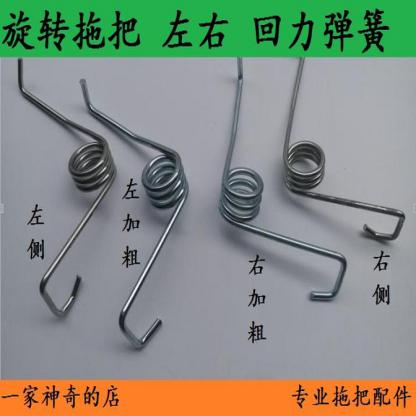FOD: (216, 56, 349, 305), (76, 76, 191, 357), (16, 55, 119, 323), (282, 56, 409, 242)
